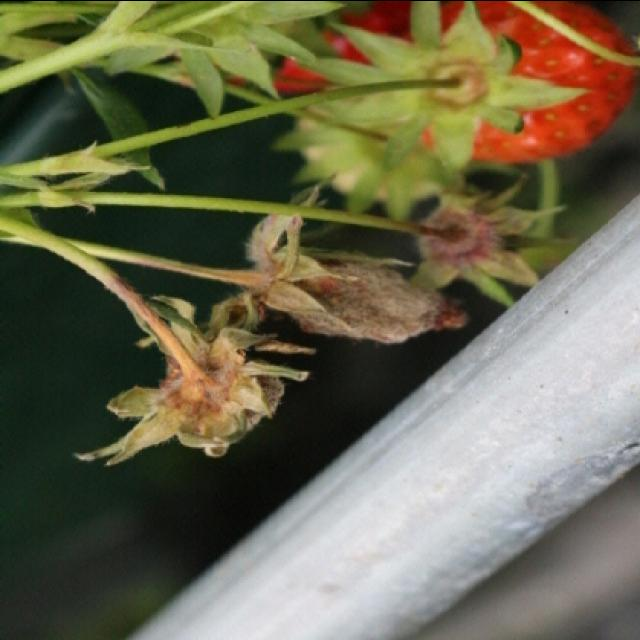Gray Mold: (74, 278, 314, 465), (205, 212, 467, 342)
